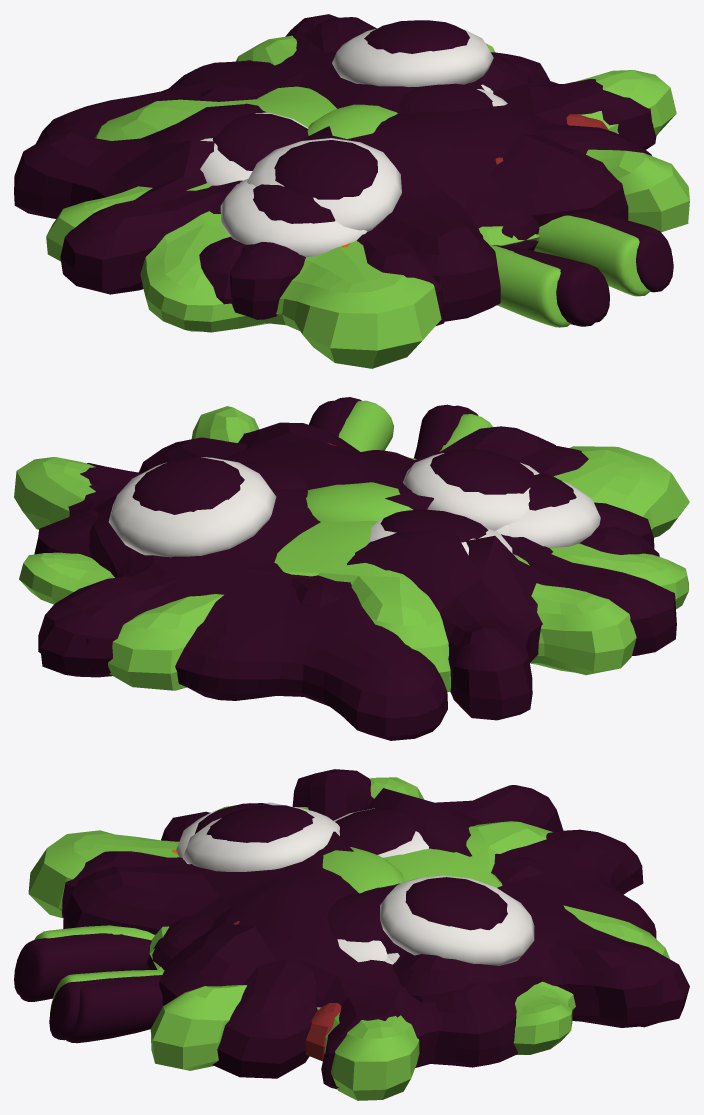
File: Splats.fbx
3 renders of one model, top to bottom at view 1: azimuth 30°, elevation 25°; view 2: azimuth 150°, elevation 25°; view 3: azimuth 270°, elevation 25°, orthographic. The views are drawn at different scales.
Parts seen in each view (by area): view 1: SplatGoo3, SplatOnionGoo1, SplatGoo2; view 2: SplatGoo2, SplatOnionGoo1, SplatGoo3; view 3: SplatGoo3, SplatGoo2, SplatOnionGoo1, Splat4.
Boxes of the visible parts, x1,y1,x2,y2 form: SplatGoo3: [14, 17, 671, 322]; SplatOnionGoo1: [46, 35, 689, 368]; SplatGoo2: [36, 14, 673, 326]; SplatGoo2: [40, 397, 659, 740]; SplatOnionGoo1: [14, 400, 689, 692]; SplatGoo3: [34, 400, 676, 720]; SplatGoo3: [16, 769, 663, 1089]; SplatGoo2: [14, 805, 689, 1078]; SplatOnionGoo1: [28, 777, 669, 1100]; Splat4: [233, 921, 341, 1060].
Bounding box in the file's own units: 114 × 27.38 × 109.
